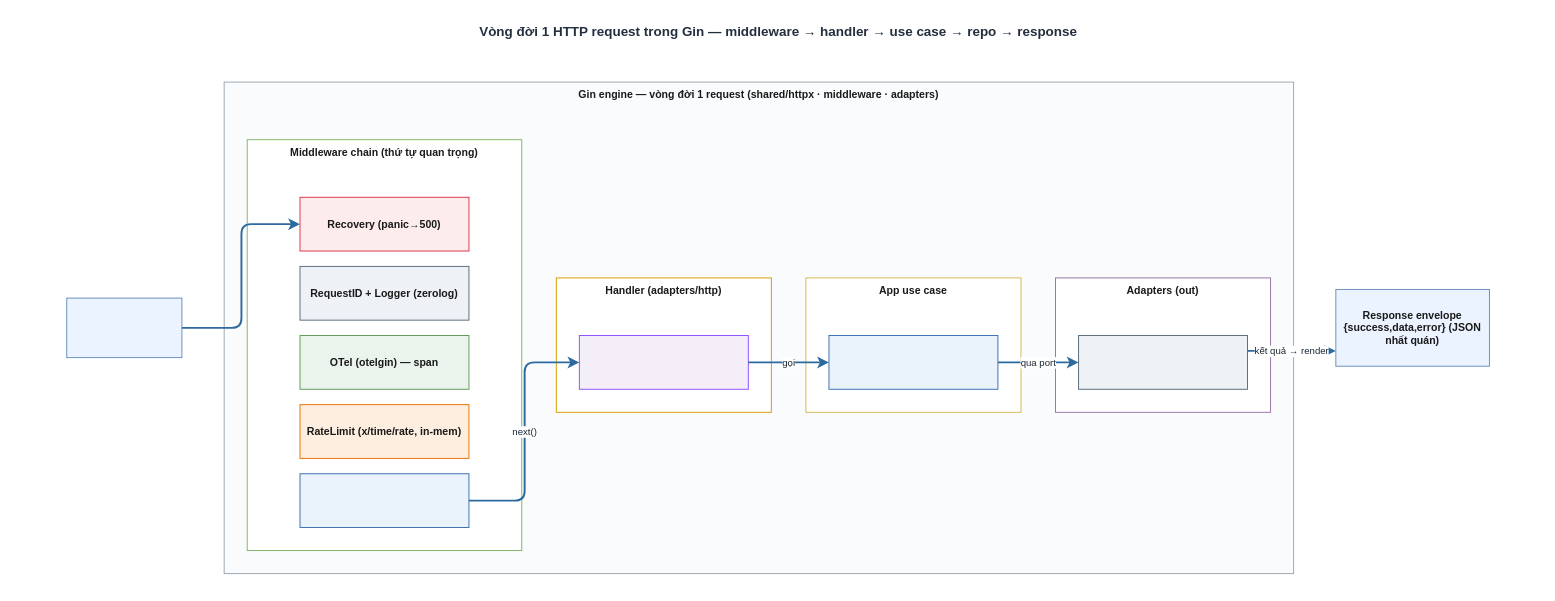
The diagram is 1555 pixels wide and 601 high, and some of its shapes have lost their labels. The shapes that lost their labels are listed below. From the top down, each one's centre as x and y in pixels, then its label:
At pixel 124 327: "HTTP request (client)".
At pixel 663 362: "bind + validate (validator/v10)".
At pixel 913 362: "use case (business logic)".
At pixel 1163 362: "Repository (pgx) / Cache (Redis)".
At pixel 384 500: "Auth (JWT cookie) + CSRF".
